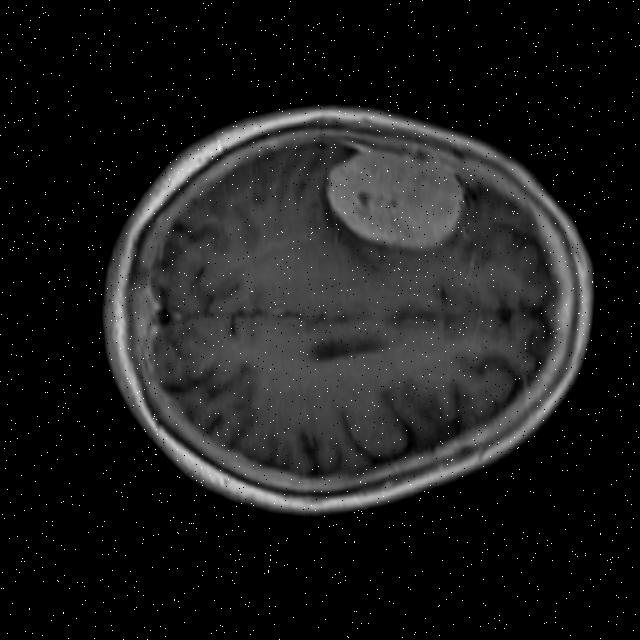Meningioma: (317, 141, 473, 263)
